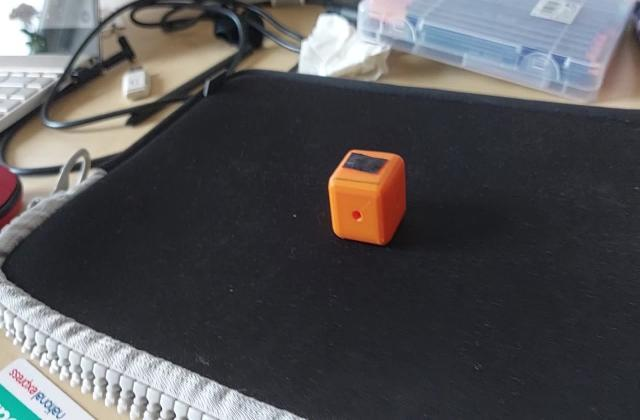black: (344, 153, 392, 177)
cube: (328, 151, 412, 249)
